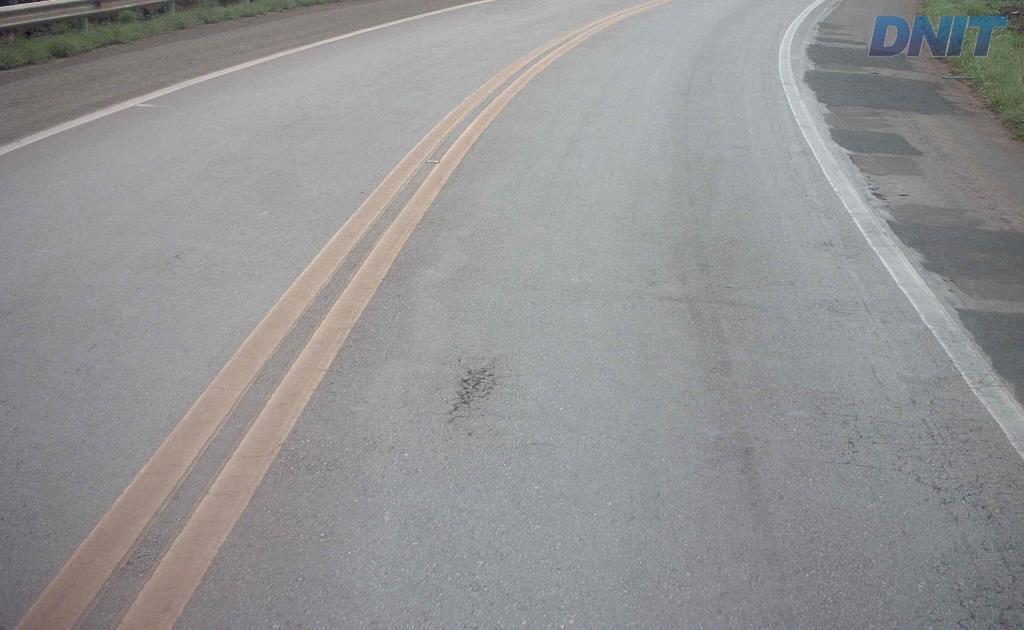crack: (956, 556, 1023, 629), (456, 367, 493, 408)
